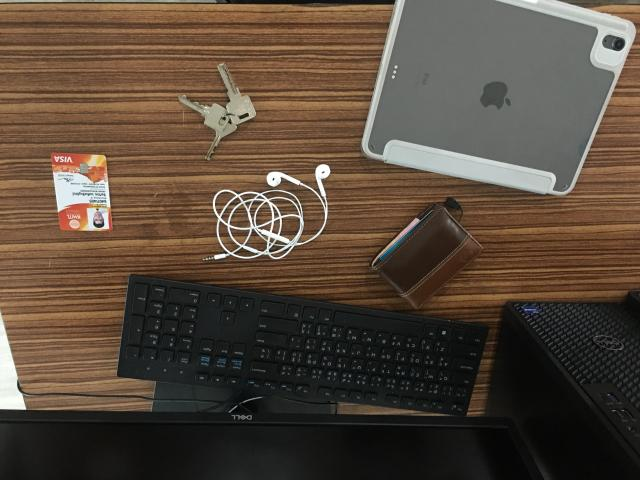Keys: (177, 64, 257, 160)
Wallet: (371, 204, 480, 309)
wire: (220, 165, 331, 260)
